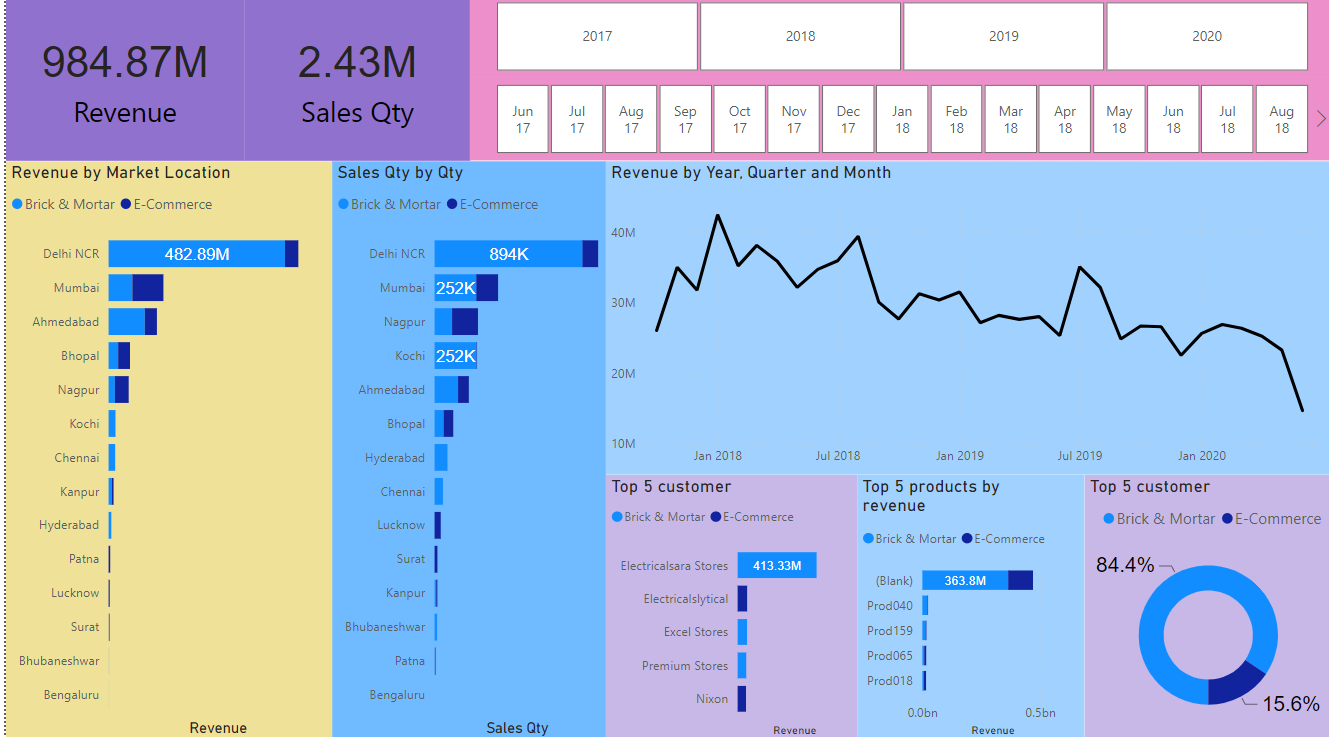

The page's visual inventory and layout, read from the dashboard file:
{"tool":"powerbi","page":{"name":"Page 1","canvas":[1280,720],"ordinal":0},"visuals":[{"type":"card","fields":{"Values":["BaseMeasures.Revenue"]},"box":[0,0,230,160],"z":0},{"type":"card","fields":{"Values":["BaseMeasures.Sales Qty"]},"box":[230,0,217.5,160],"z":1000},{"type":"barChart","title":"Revenue by Market Location","fields":{"Y":["BaseMeasures.Revenue"],"Category":["sales markets.markets_name"],"Series":["sales customers.customer_type"]},"box":[0,160,315,560],"z":2000},{"type":"barChart","title":"Sales Qty by Qty","fields":{"Y":["BaseMeasures.Sales Qty"],"Category":["sales markets.markets_name"],"Series":["sales customers.customer_type"]},"box":[315,160,263.8,560],"z":3000},{"type":"slicer","fields":{"Values":["sales date.year"]},"box":[447.5,0,832.5,80],"z":4000},{"type":"slicer","fields":{"Values":["sales date.cy_date"]},"box":[447.5,80,832.5,80],"z":5000},{"type":"barChart","title":"Top 5 customer","fields":{"Category":["sales customers.custmer_name"],"Y":["BaseMeasures.Revenue"],"Series":["sales customers.customer_type"]},"box":[578.8,538.8,242.5,181.2],"z":6000},{"type":"barChart","title":"Top 5 products by revenue","fields":{"Category":["sales products.product_code"],"Y":["BaseMeasures.Revenue"],"Series":["sales customers.customer_type"]},"box":[821.2,538.8,220,181.2],"z":7000},{"type":"lineChart","fields":{"Y":["BaseMeasures.Revenue"],"Category":["sales date.cy_date.Variation.Date Hierarchy.Year","sales date.cy_date.Variation.Date Hierarchy.Quarter","sales date.cy_date.Variation.Date Hierarchy.Month","sales date.cy_date.Variation.Date Hierarchy.Day"]},"box":[578.8,160,701.2,378.8],"z":8000},{"type":"donutChart","title":"Top 5 customer","fields":{"Category":["sales customers.customer_type"],"Y":["BaseMeasures.Revenue"]},"box":[1037.5,538.8,242.5,181.2],"z":8001}]}

Visuals, with their boxes in screenshot pixels (x1, y1, x2, y2), scaled from the page's 1280x720 canvas onto the 1329x737 screenshot:
card - BaseMeasures.Revenue: locate(0, 0, 239, 164)
card - BaseMeasures.Sales Qty: locate(239, 0, 465, 164)
"Revenue by Market Location" barChart: locate(0, 164, 327, 736)
"Sales Qty by Qty" barChart: locate(327, 164, 601, 736)
slicer - sales date.year: locate(465, 0, 1328, 82)
slicer - sales date.cy_date: locate(465, 82, 1328, 164)
"Top 5 customer" barChart: locate(601, 552, 853, 736)
"Top 5 products by revenue" barChart: locate(853, 552, 1081, 736)
lineChart - BaseMeasures.Revenue x sales date.cy_date.Variation.Date Hierarchy.Year: locate(601, 164, 1328, 552)
"Top 5 customer" donutChart: locate(1077, 552, 1328, 736)
